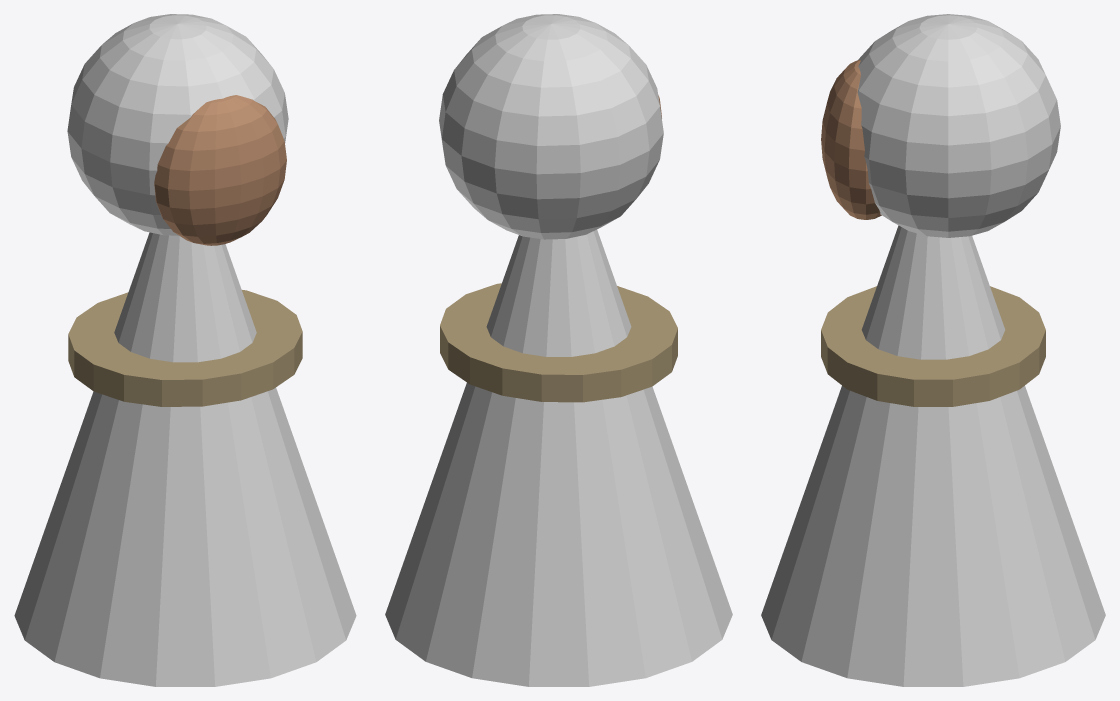
The model's file is monk.9aede13c.glb.
The picture shows the model from 3 angles, left to right: view 1: azimuth 30°, elevation 25°; view 2: azimuth 150°, elevation 25°; view 3: azimuth 270°, elevation 25°; orthographic projection.
Visible parts, largest first — view 1: accent, body; view 2: accent, body; view 3: accent, body.
Part boxes in pixels (<box>): accent: <box>14,14,356,686</box>; body: <box>68,95,302,406</box>; accent: <box>385,14,732,686</box>; body: <box>440,95,677,402</box>; accent: <box>761,14,1105,686</box>; body: <box>821,60,1045,406</box>.
Size of the model in its own units: 0.453 by 0.87 by 0.46.
